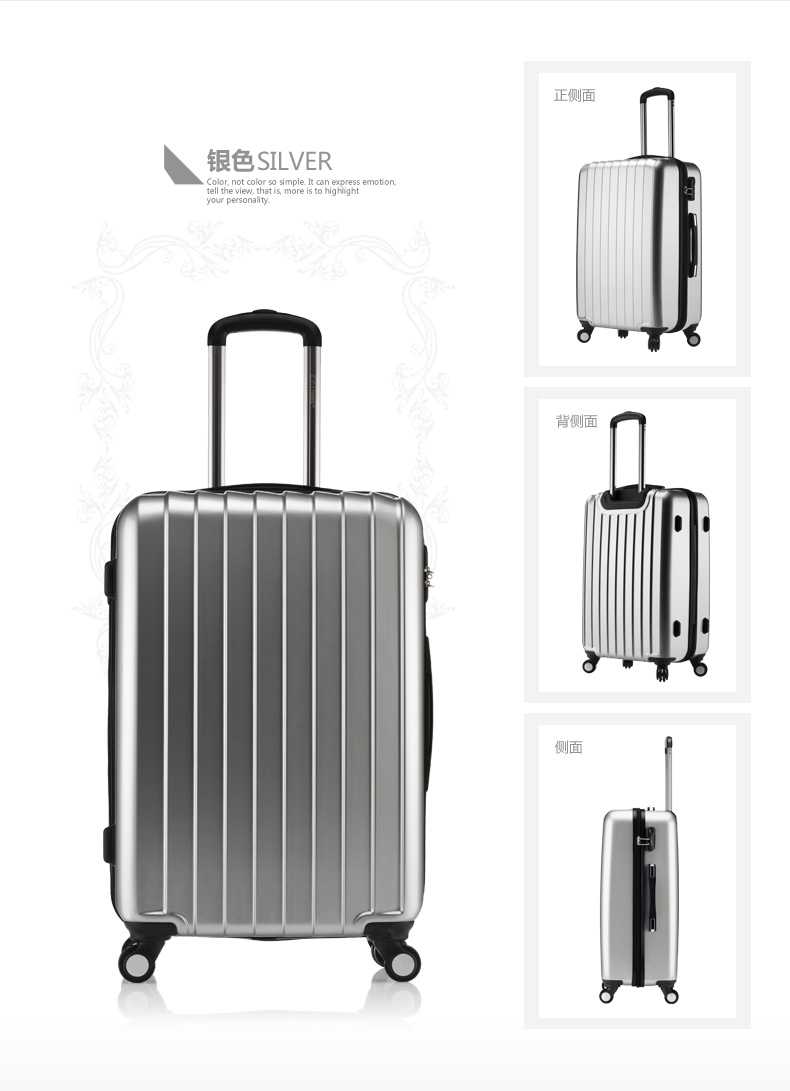suitcase: (100, 307, 436, 983), (598, 736, 680, 1008)
